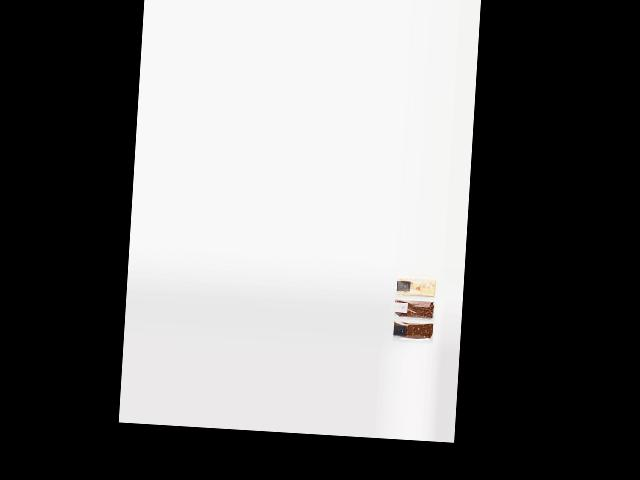chocolate: (393, 322, 435, 343)
